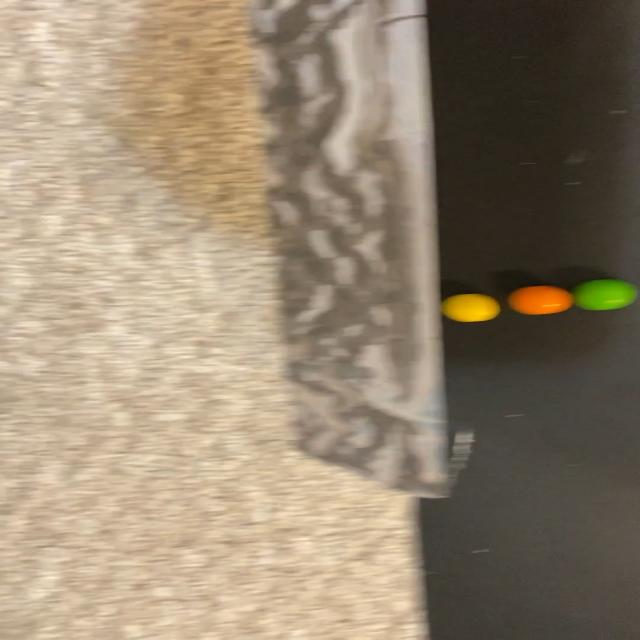smartie: (573, 279, 637, 310), (508, 286, 574, 315), (441, 294, 500, 322)
